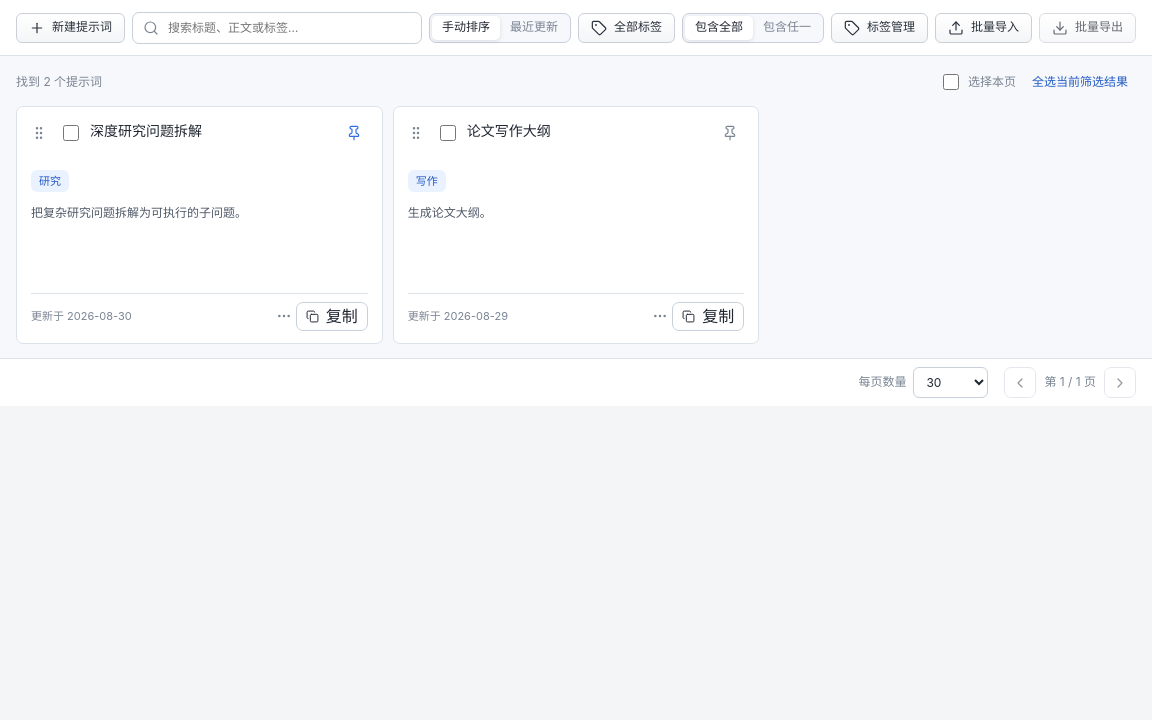
Scenario: PromptsView › ignores stale detail responses when cards are opened in quick succession
The width and height of the screenshot is (1152, 720).
Click the element "深度研究问题拆解". click: [199, 225]
box: [16,106,383,344]
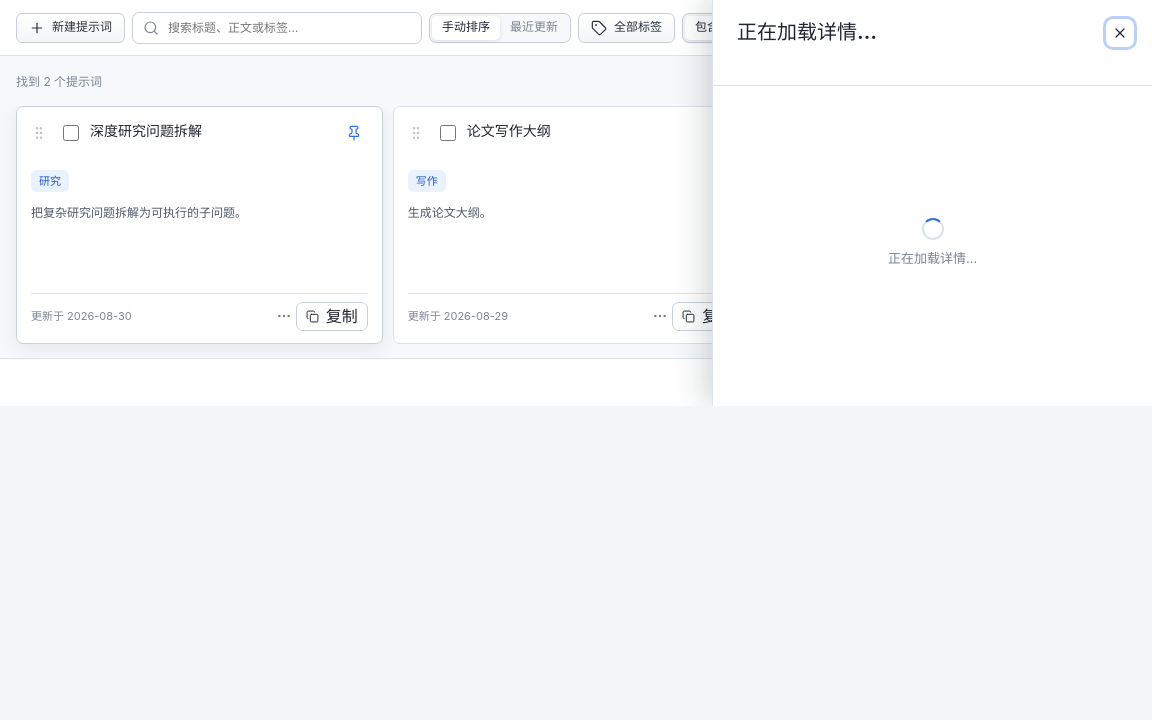
Click the element "论文写作大纲". click: [576, 225]
box: [393,106,759,344]
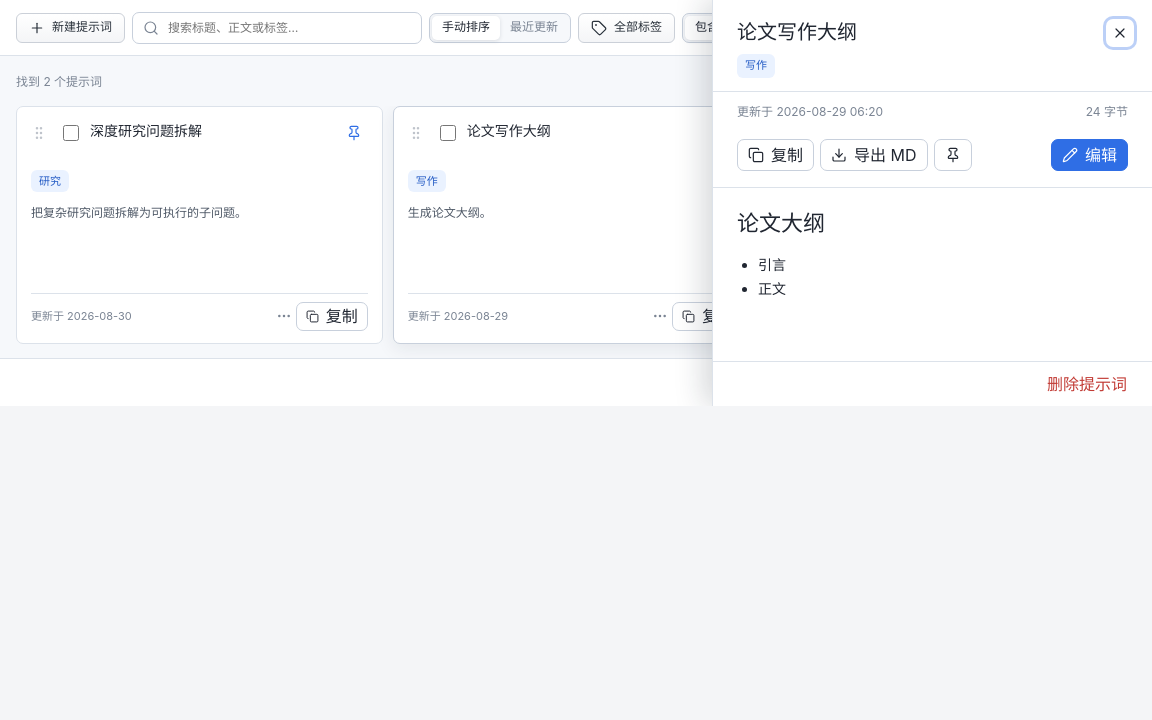
Check: the dialog "论文写作大纲" is shown, box [712,0,1151,406]
Check: the heading "论文大纲" is shown, box [737,210,825,236]
